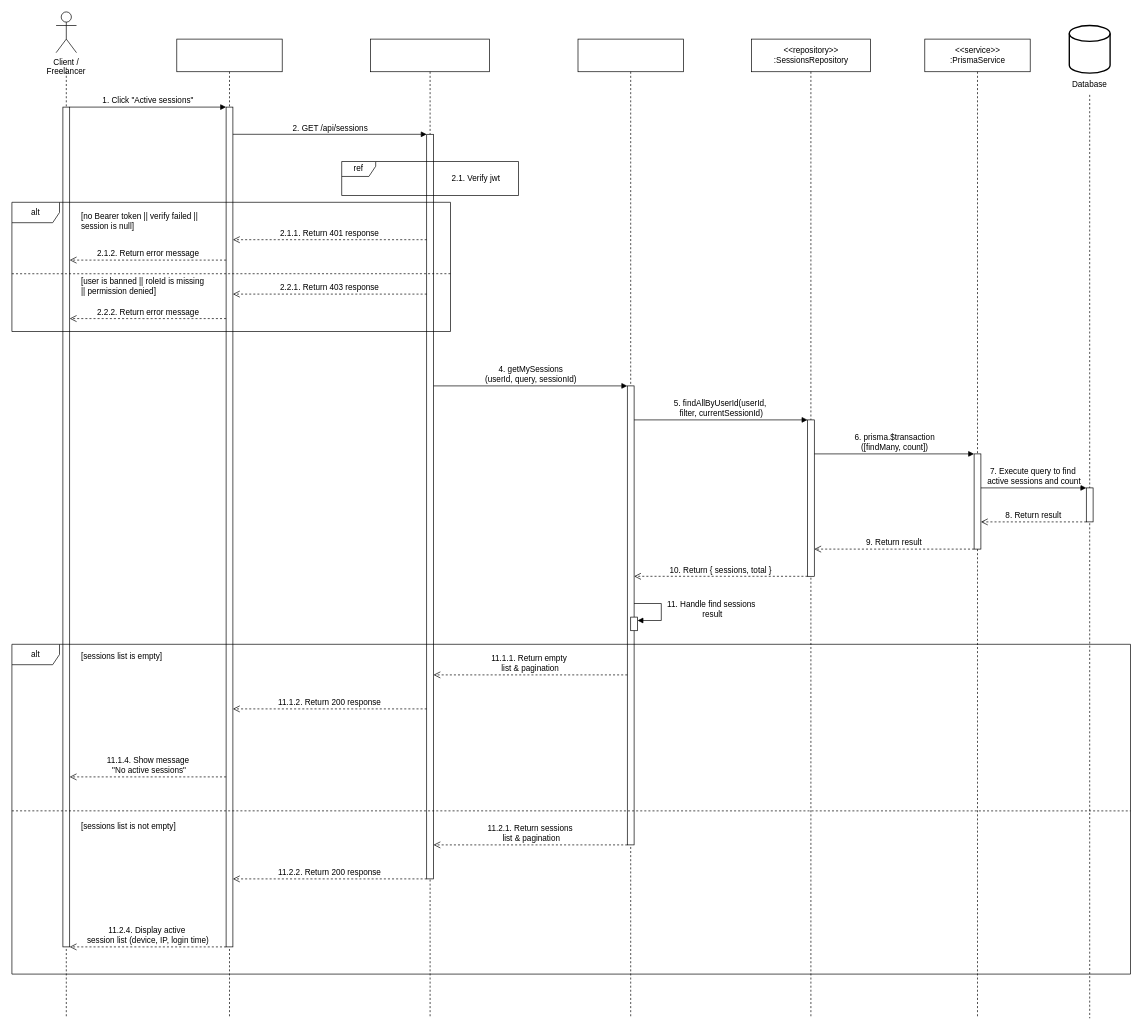
The diagram is 1143 pixels wide and 1031 high, and some of its shapes have lost their labels. Here are the shapes that lost their labels. From the top down, the box of each, then its label:
(176, 38, 282, 1018): <<boundary>> SessionView
(370, 38, 490, 1018): <<controller>> :SessionsController
(577, 38, 683, 1018): <<service>> :SessionsService
